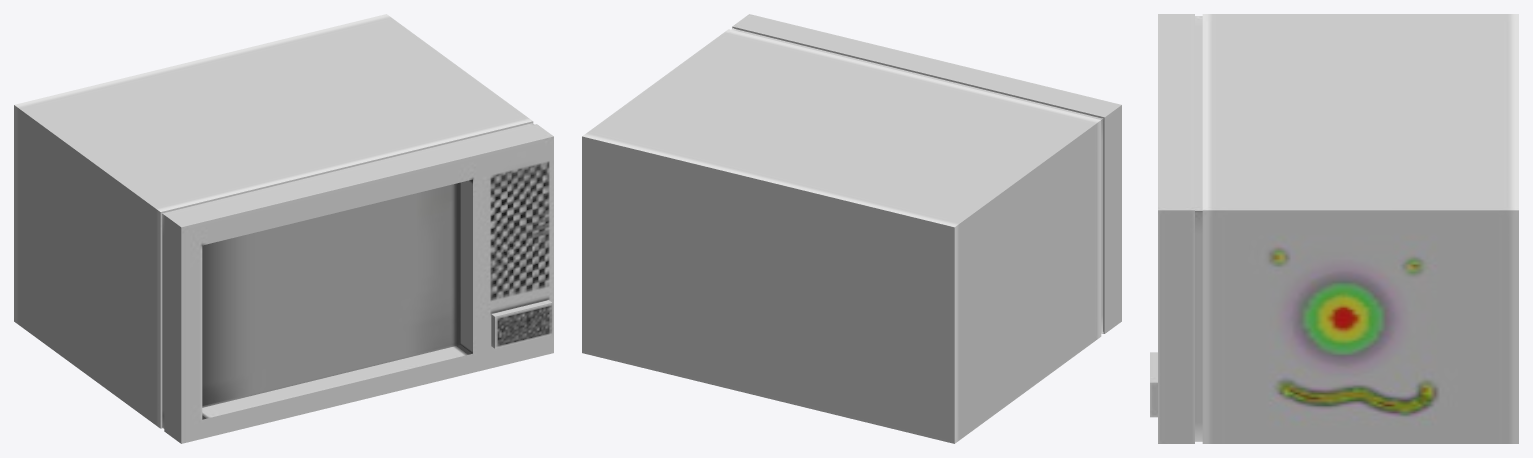
The model's file is microonde.FBX.
3 renders of one model, left to right at view 1: azimuth 30°, elevation 25°; view 2: azimuth 150°, elevation 25°; view 3: azimuth 270°, elevation 25°, orthographic. The views are drawn at different scales.
Parts seen in each view (by area): view 1: forno a microonde; view 2: forno a microonde; view 3: forno a microonde.
Part boxes in pixels (x1=…): forno a microonde: x1=14, y1=14, x2=553, y2=443; forno a microonde: x1=582, y1=14, x2=1121, y2=443; forno a microonde: x1=1150, y1=14, x2=1518, y2=443.
Size of the model in its own units: 0.45 by 0.25 by 0.3576.
